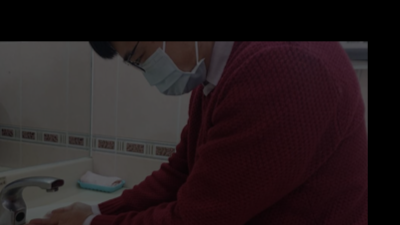with_mask: (118, 42, 209, 98)
